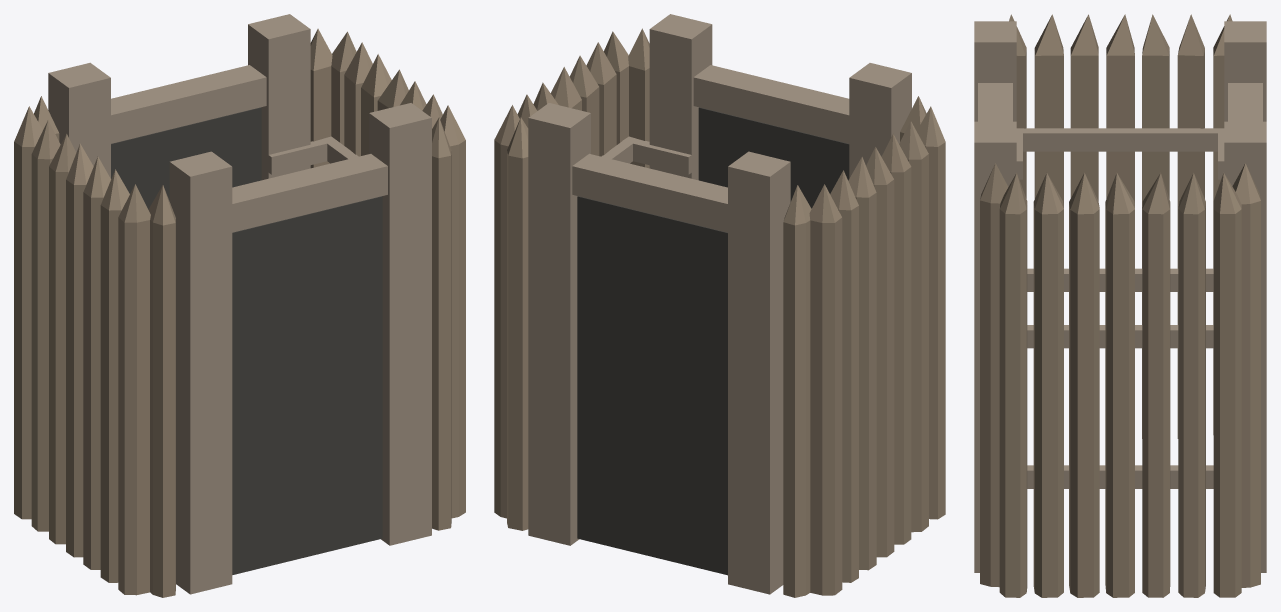
The model's file is first_fort_covered_way_bank_upper__first_fort_1803.glb.
The picture shows the model from 3 angles, left to right: view 1: azimuth 30°, elevation 25°; view 2: azimuth 150°, elevation 25°; view 3: azimuth 270°, elevation 25°; orthographic projection. The views are drawn at different scales.
Parts seen in each view (by area): view 1: first_fort_covered_way_bank_upper__first_fort_1803; view 2: first_fort_covered_way_bank_upper__first_fort_1803; view 3: first_fort_covered_way_bank_upper__first_fort_1803.
Boxes of the visible parts, x1=… form: first_fort_covered_way_bank_upper__first_fort_1803: x1=14, y1=14, x2=465, y2=597; first_fort_covered_way_bank_upper__first_fort_1803: x1=494, y1=14, x2=945, y2=597; first_fort_covered_way_bank_upper__first_fort_1803: x1=974, y1=14, x2=1266, y2=597.
Size of the model in its own units: 3.25 by 3.8 by 2.34.
